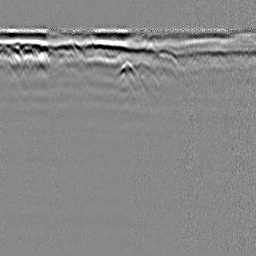cavity: (113, 59, 139, 81)
